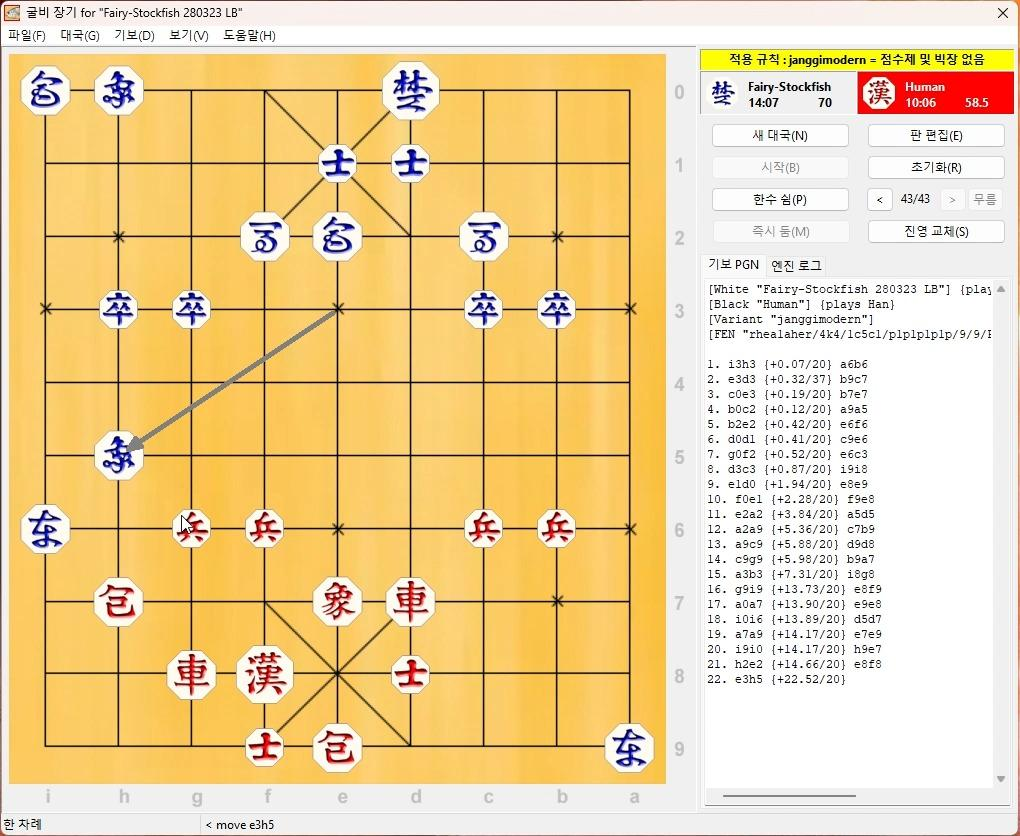cha_green: (607, 725, 654, 773), (23, 505, 72, 551)
cha_red: (166, 651, 215, 696), (387, 580, 435, 625)
jol_green: (537, 293, 576, 329), (466, 293, 504, 329), (172, 293, 210, 329), (98, 293, 136, 328)
jol_red: (466, 507, 503, 547), (172, 512, 212, 547), (538, 510, 575, 547), (246, 510, 285, 545)
ma_green: (459, 214, 507, 260), (241, 215, 290, 260)
po_green: (314, 214, 362, 260), (21, 70, 69, 114)
po_red: (95, 577, 144, 622), (315, 725, 362, 771)
sa_green: (391, 143, 431, 183), (318, 143, 357, 184)
sa_red: (245, 725, 285, 769), (391, 654, 430, 692)
sang_green: (96, 68, 145, 115), (94, 433, 144, 478)
sang_red: (316, 579, 364, 625)
wang_green: (382, 64, 439, 118)
wang_red: (239, 649, 294, 702)
